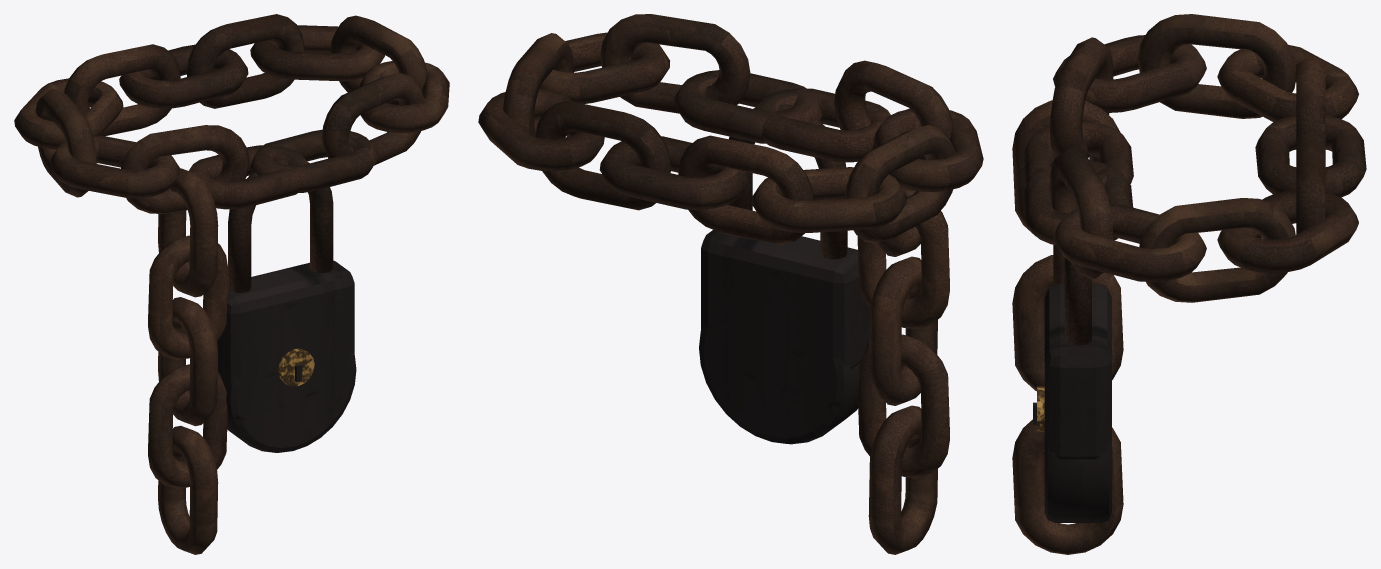
File: chain-and-padlock.glb
3 renders of one model, left to right at view 1: azimuth 30°, elevation 25°; view 2: azimuth 150°, elevation 25°; view 3: azimuth 270°, elevation 25°, orthographic. The views are drawn at different scales.
Parts seen in each view (by area): view 1: chain, padlock; view 2: chain, padlock; view 3: chain, padlock.
Part boxes in pixels (x1,y1,x2,y2): chain: (14, 14, 449, 554); padlock: (217, 159, 356, 452); chain: (478, 14, 983, 554); padlock: (699, 104, 869, 444); chain: (1012, 14, 1366, 554); padlock: (1033, 257, 1111, 522).
Size of the model in its own units: 0.2089 by 0.215 by 0.137.
Materials: 4 (3 with a texture image).
